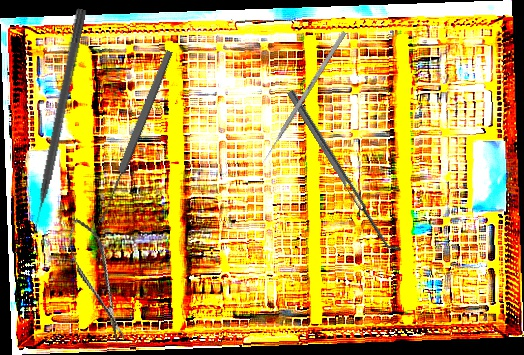Micro Scissor: (61, 213, 133, 347)
Pusher: (26, 7, 88, 238), (258, 30, 347, 169)
Spatula Surgical: (287, 85, 402, 258)
Surgical Spoon: (95, 49, 175, 224)
